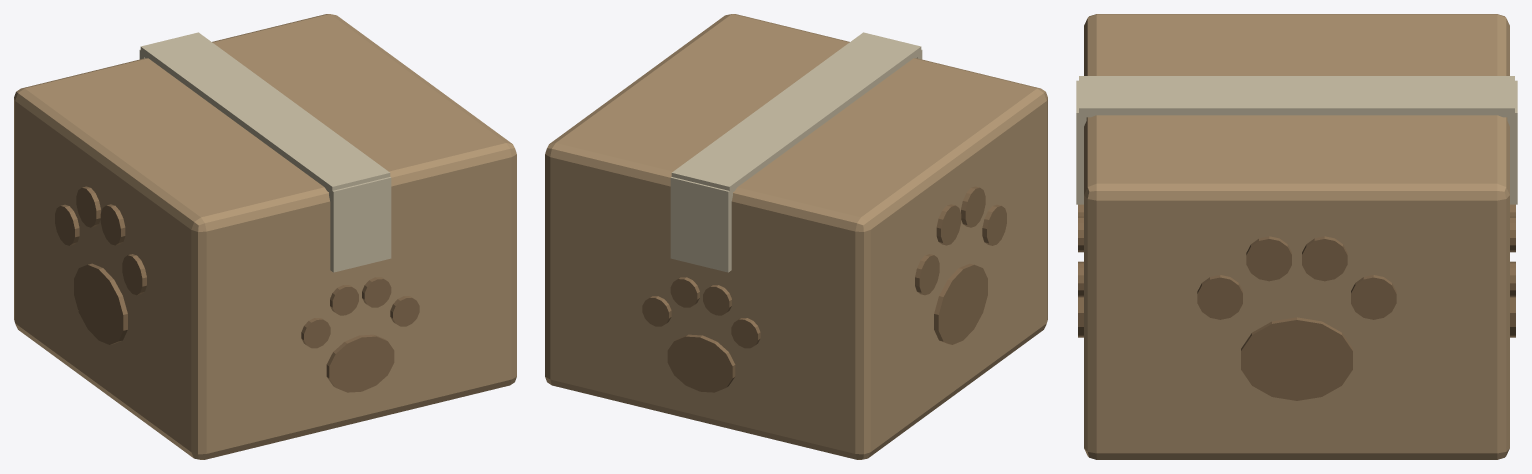
File: crate.glb
3 renders of one model, left to right at view 1: azimuth 30°, elevation 25°; view 2: azimuth 150°, elevation 25°; view 3: azimuth 270°, elevation 25°, orthographic. The views are drawn at different scales.
Parts seen in each view (by area): view 1: crate; view 2: crate; view 3: crate.
Boxes of the visible parts, x1,y1,x2,y2 form: crate: (14,14,516,459); crate: (545,14,1047,459); crate: (1076,14,1517,459).
Size of the model in its own units: 0.864 by 0.615 by 0.87.
